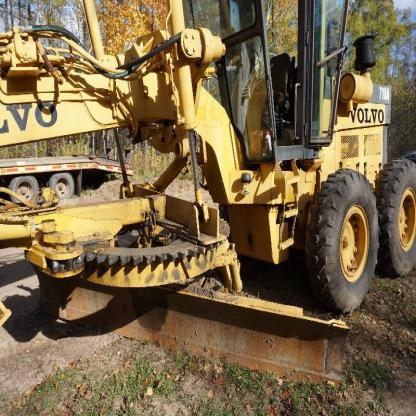bull_dozer/loader/grader: (5, 2, 416, 392)
